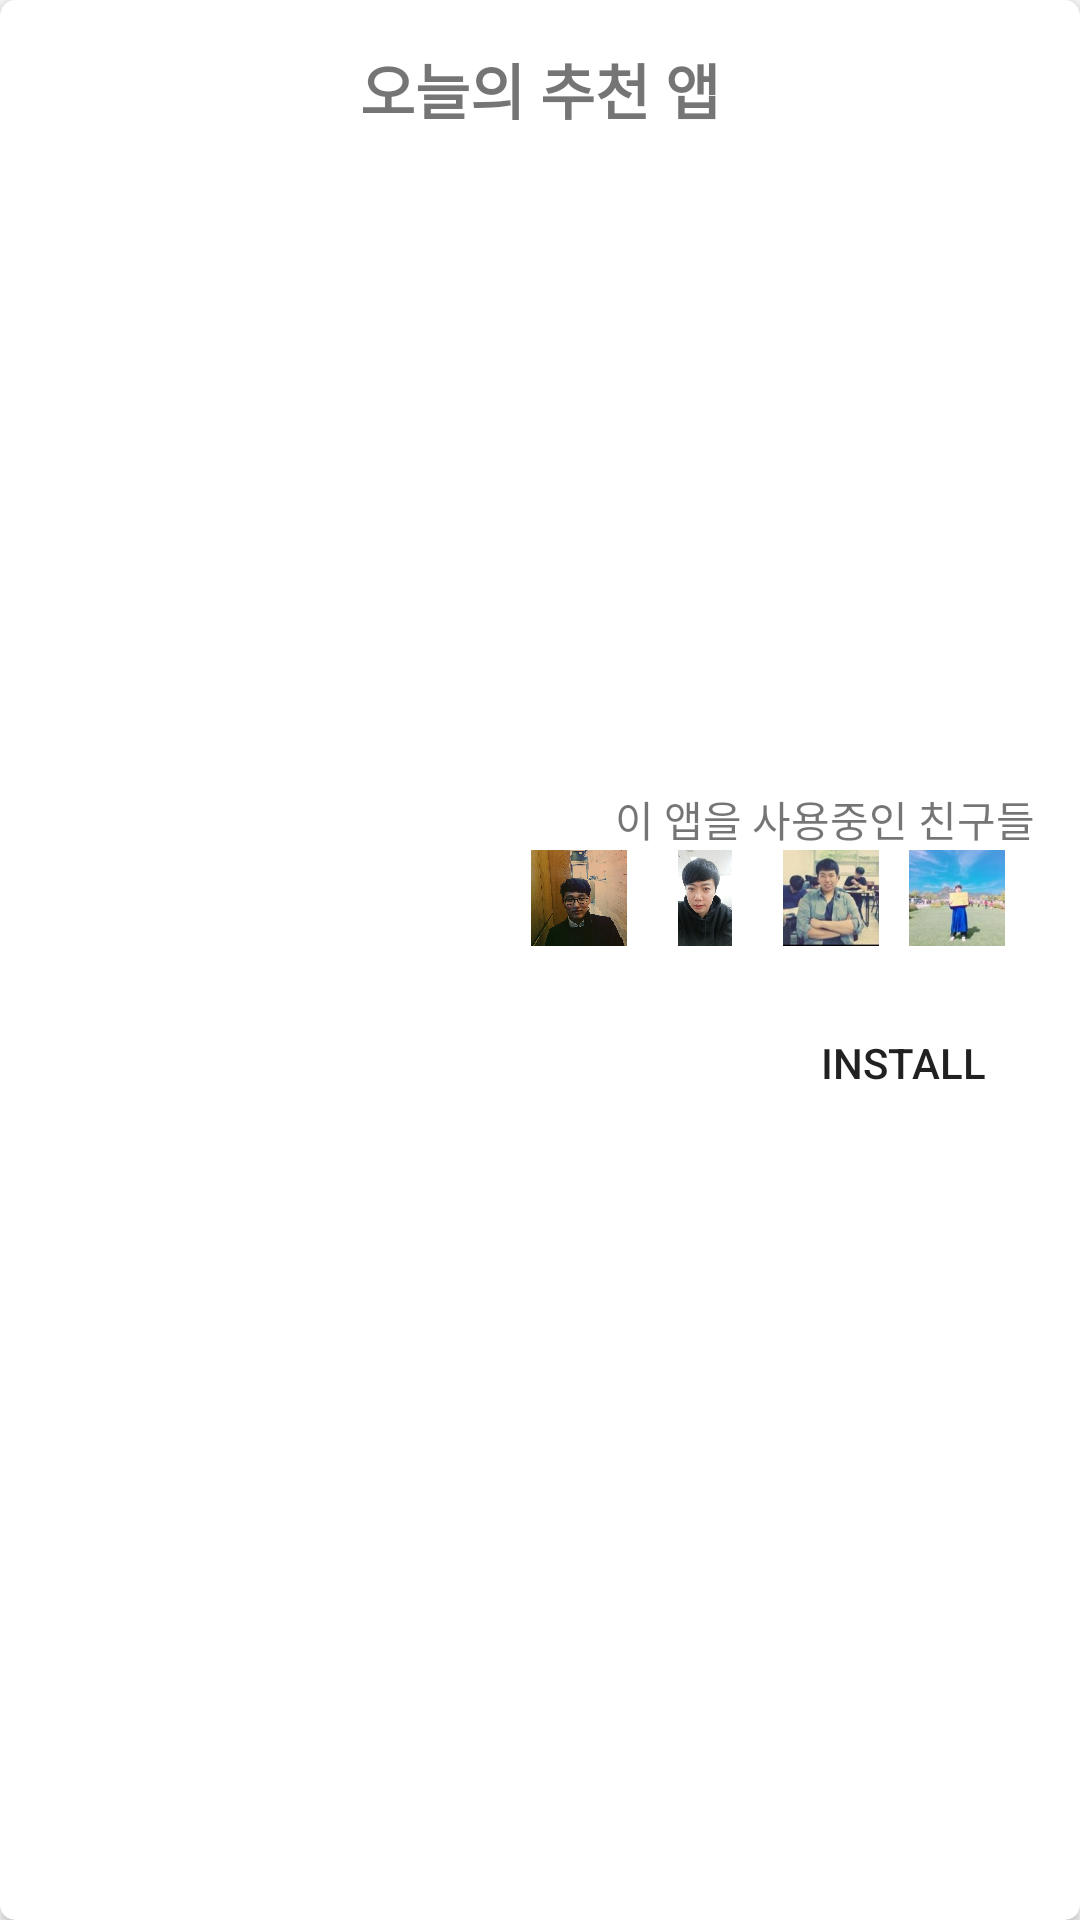

Icons on this 1080*1920 Android screen, each with the point to tap as [x,y]:
user: [579,898], [705,898], [831,898], [957,898]
